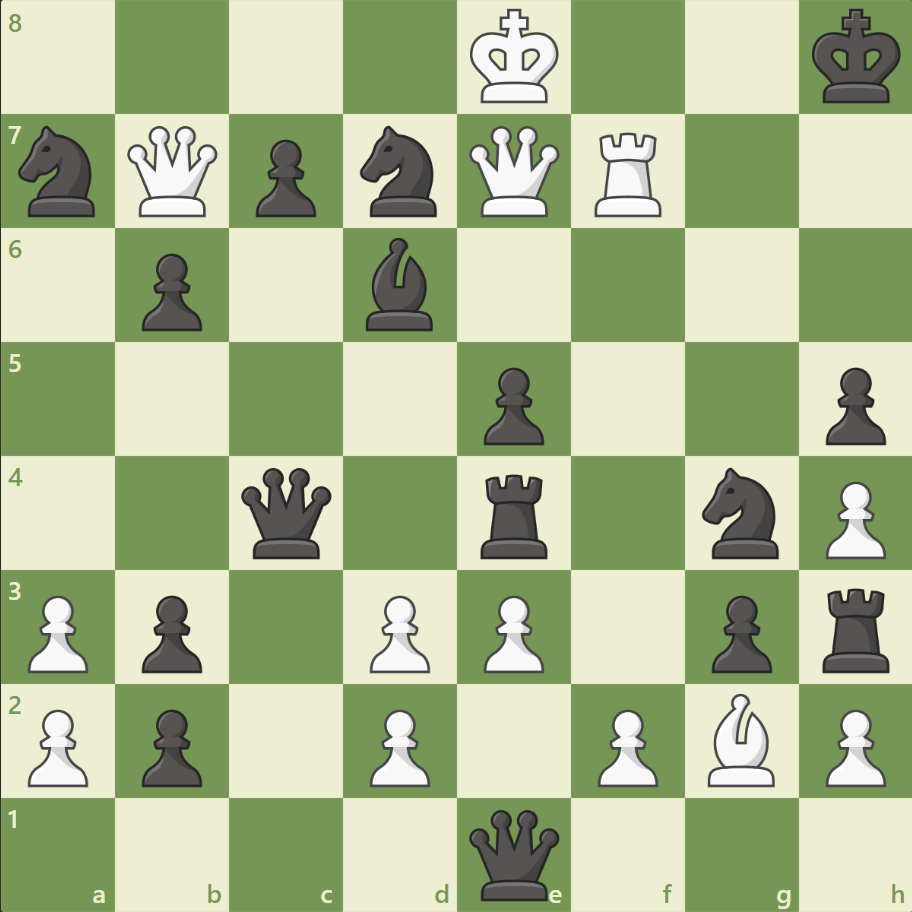B: (698, 687, 782, 790)
K: (465, 4, 565, 112)
P: (20, 586, 95, 677), (474, 586, 549, 677), (20, 700, 95, 791), (815, 473, 889, 564), (361, 586, 435, 677), (361, 700, 435, 791), (588, 700, 662, 791), (815, 700, 889, 791)
Q: (124, 122, 223, 222), (464, 122, 563, 222)
R: (587, 125, 670, 222)
b: (358, 233, 442, 336)
k: (806, 4, 906, 112)
n: (351, 121, 449, 223), (692, 461, 789, 564), (11, 121, 108, 223)
p: (247, 132, 322, 223), (133, 246, 208, 337), (474, 359, 549, 450), (133, 586, 208, 677), (701, 586, 776, 677), (133, 700, 208, 791), (815, 359, 889, 450)
q: (237, 463, 336, 562), (464, 804, 563, 903)
r: (473, 466, 556, 563), (814, 579, 897, 676)
